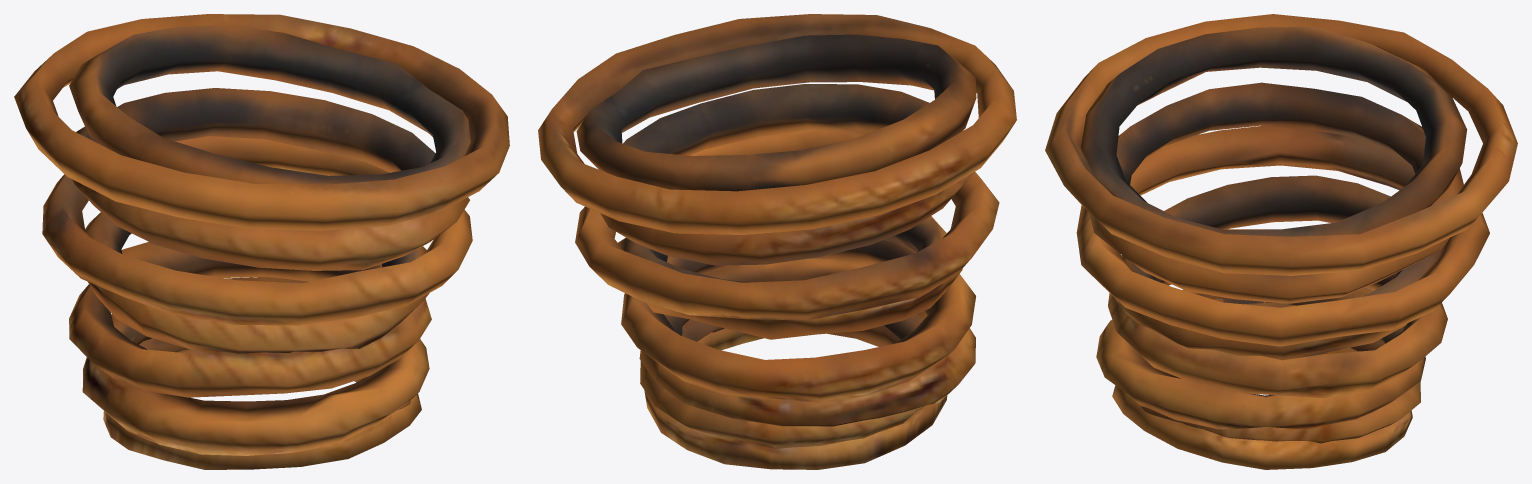
Rendered from rope_coil.glb.
3 views of the same model, side by side, from view 1: azimuth 30°, elevation 25°; view 2: azimuth 150°, elevation 25°; view 3: azimuth 270°, elevation 25° (orthographic). The views are drawn at different scales.
Visible parts, largest first — view 1: ring_c, ring_a, ring_b; view 2: ring_c, ring_a, ring_b; view 3: ring_c, ring_a, ring_b.
Boxes of the visible parts, <box> form: ring_c: <box>14,14,509,270</box>; ring_a: <box>69,212,431,469</box>; ring_b: <box>42,136,472,325</box>; ring_c: <box>538,14,1016,265</box>; ring_a: <box>618,216,975,469</box>; ring_b: <box>575,130,999,320</box>; ring_c: <box>1045,14,1517,303</box>; ring_a: <box>1096,175,1447,469</box>; ring_b: <box>1076,126,1489,346</box>.
Bounding box in the file's own units: 0.5946 × 0.4633 × 0.6.
Materials: 1 (1 with a texture image).
